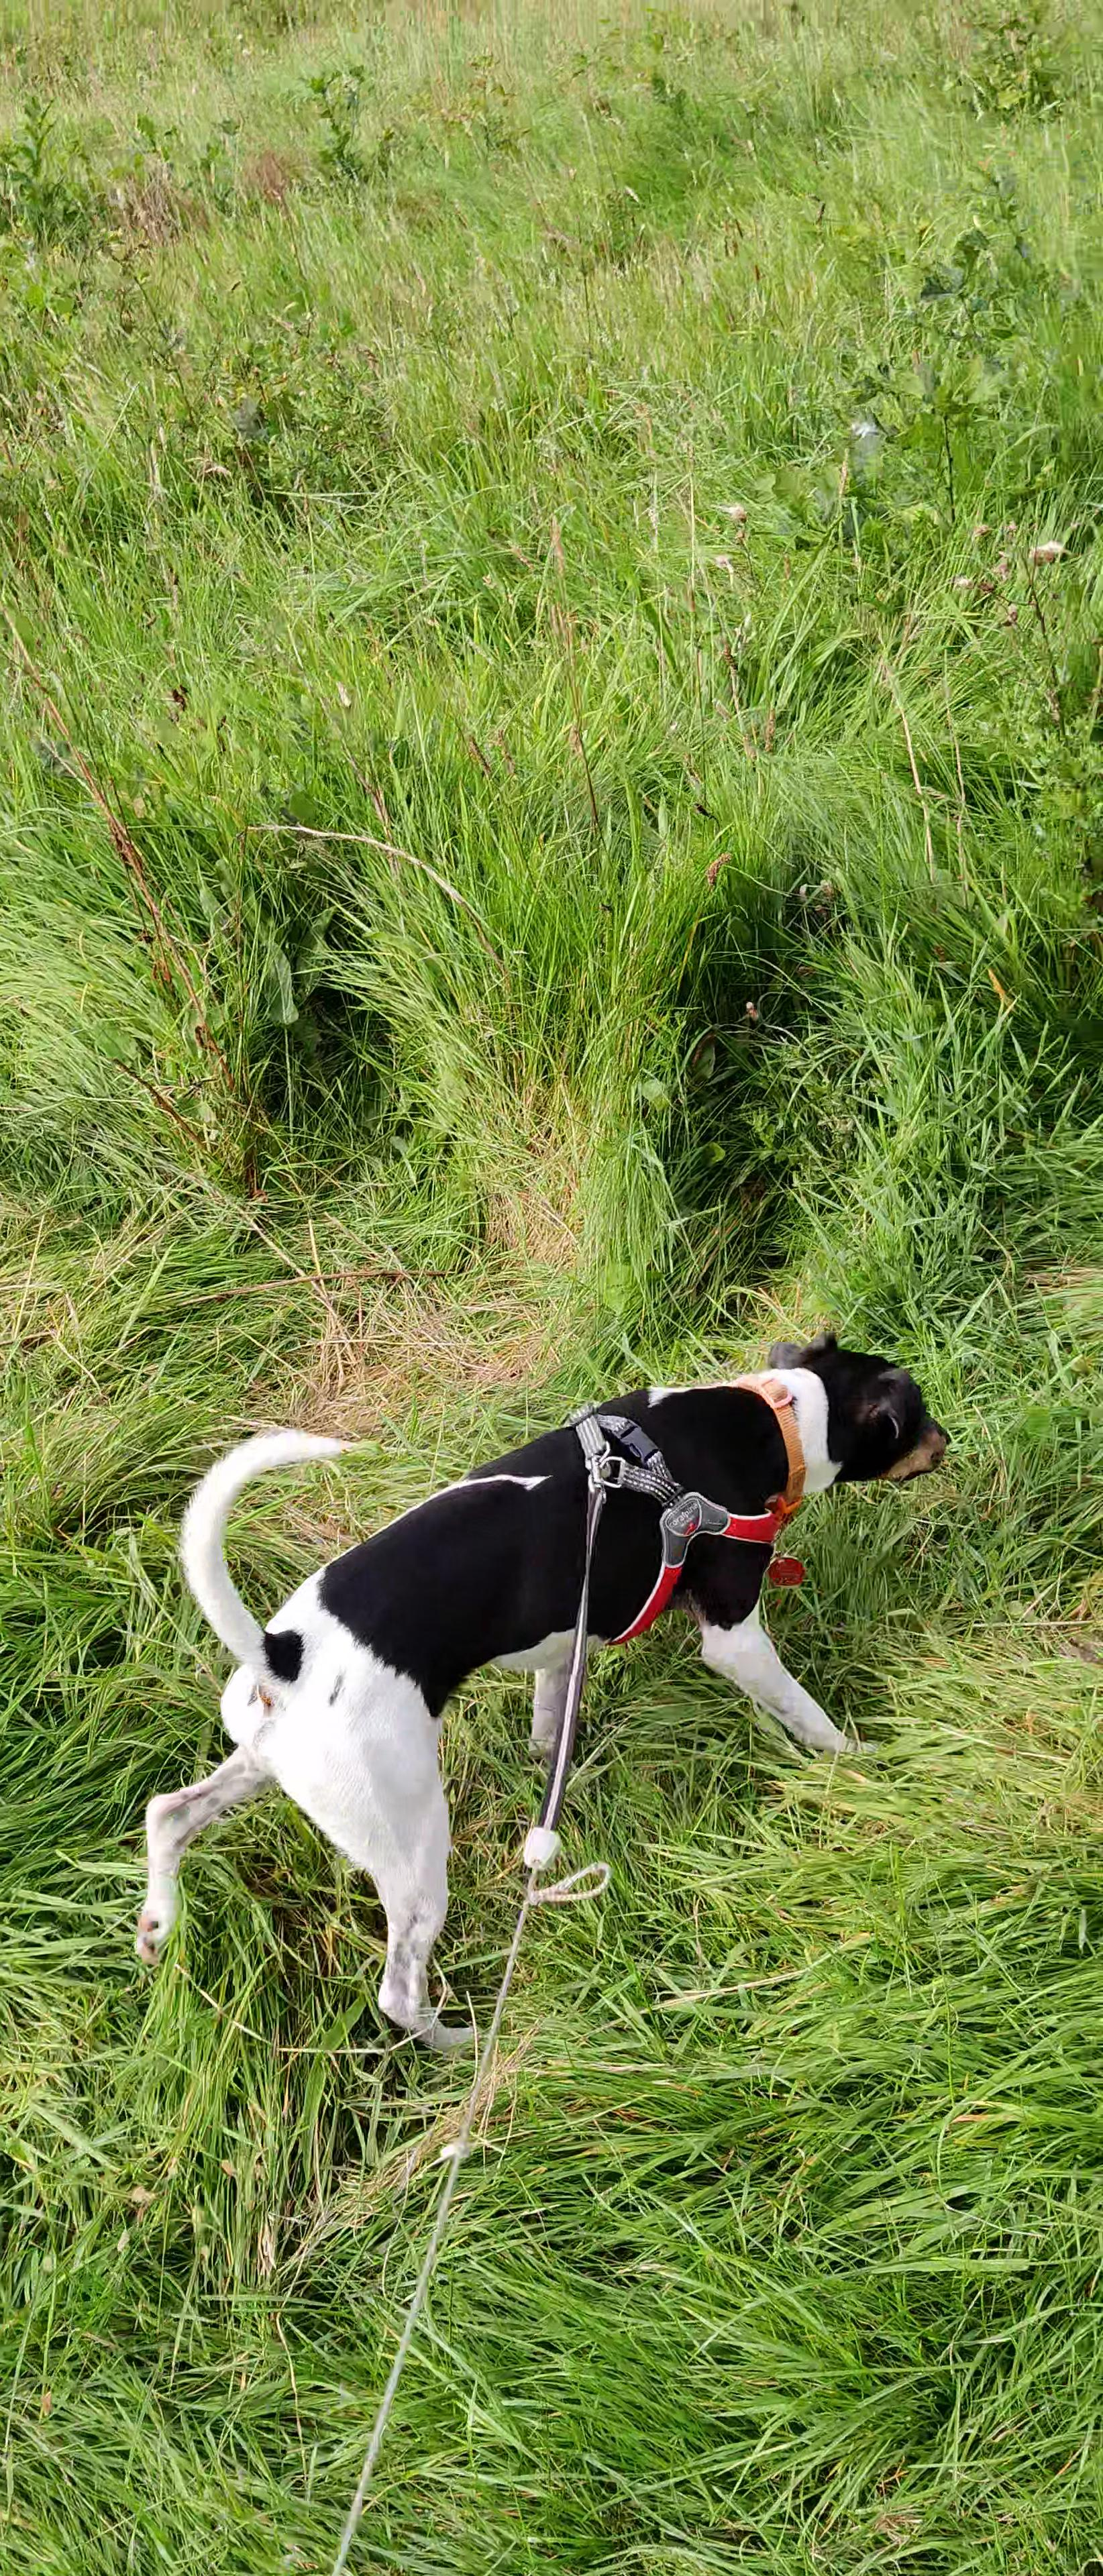Dog: (99, 1285, 957, 2114)
